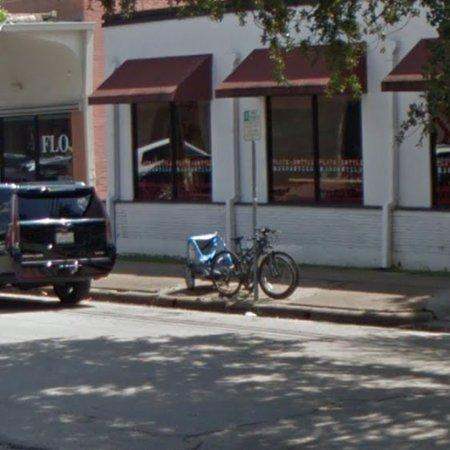bicycles: (211, 230, 300, 300)
